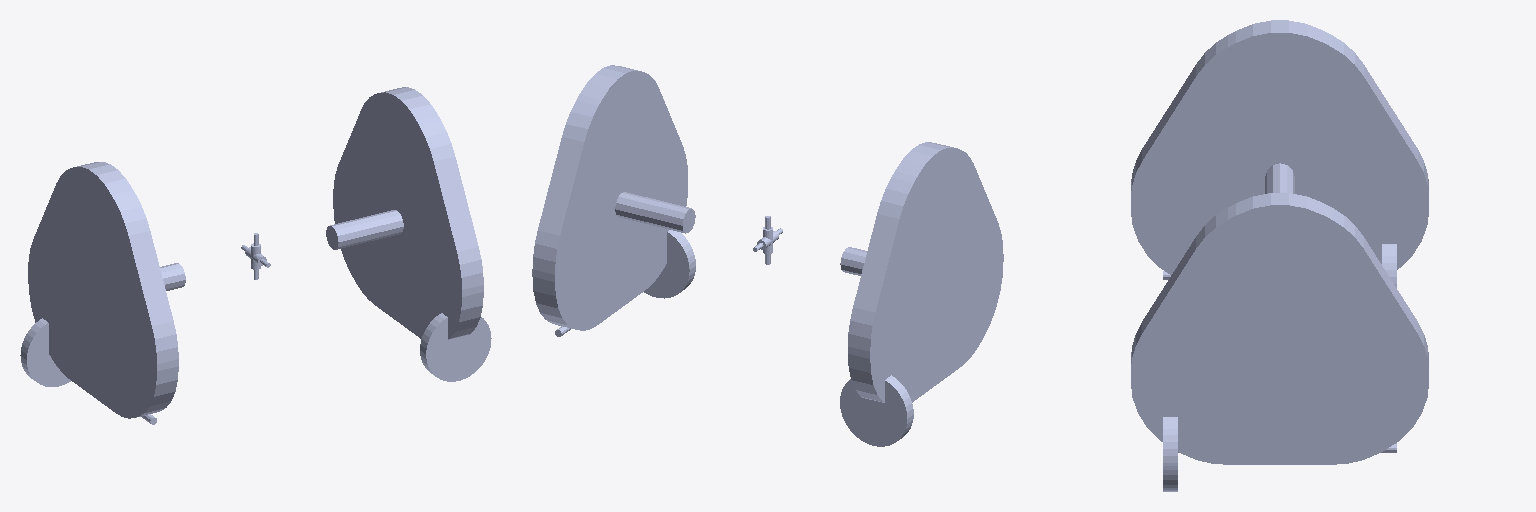
robot.urdf — 3D_ver2:
<?xml version="1.0" encoding="utf-8"?>
<!-- This URDF was automatically created by SolidWorks to URDF Exporter! Originally created by [author] ([email redacted]) 
     Commit Version: 1.6.0-1-g15f4949  Build Version: 1.6.7594.29634
     For more information, please see http://wiki.ros.org/sw_urdf_exporter -->
<robot
  name="3D_ver2">
  <link
    name="base">
    <inertial>
      <origin
        xyz="0.077437 -0.014827 0.010718"
        rpy="0 0 0" />
      <mass
        value="0.0794" />
      <inertia
        ixx="9.6765E-05"
        ixy="-6.2069E-12"
        ixz="2.4642E-09"
        iyy="5.0128E-05"
        iyz="-6.4522E-11"
        izz="5.0102E-05" />
    </inertial>
    <visual>
      <origin
        xyz="0 0 0"
        rpy="0 0 0" />
      <geometry>
        <mesh
          filename="package://3D_ver2/meshes/base.STL" />
      </geometry>
      <material
        name="">
        <color
          rgba="0.79216 0.81961 0.93333 1" />
      </material>
    </visual>
    <collision>
      <origin
        xyz="0 0 0"
        rpy="0 0 0" />
      <geometry>
        <mesh
          filename="package://3D_ver2/meshes/base.STL" />
      </geometry>
    </collision>
  </link>
  <link
    name="wheel_backright">
    <inertial>
      <origin
        xyz="0 1.3299E-06 -0.0025"
        rpy="0 0 0" />
      <mass
        value="0.0035028" />
      <inertia
        ixx="2.0609E-07"
        ixy="9.9262E-24"
        ixz="-8.9791E-23"
        iyy="2.0608E-07"
        iyz="-5.0635E-24"
        izz="3.9757E-07" />
    </inertial>
    <visual>
      <origin
        xyz="0 0 0"
        rpy="0 0 0" />
      <geometry>
        <mesh
          filename="package://3D_ver2/meshes/wheel_backright.STL" />
      </geometry>
      <material
        name="">
        <color
          rgba="0.79216 0.81961 0.93333 1" />
      </material>
    </visual>
    <collision>
      <origin
        xyz="0 0 0"
        rpy="0 0 0" />
      <geometry>
        <mesh
          filename="package://3D_ver2/meshes/wheel_backright.STL" />
      </geometry>
    </collision>
  </link>
  <joint
    name="wheel1"
    type="continuous">
    <origin
      xyz="0.078031 0.020173 -0.029026"
      rpy="1.5708 0.20072 0" />
    <parent
      link="base" />
    <child
      link="wheel_backright" />
    <axis
      xyz="0 0 1" />
  </joint>
  <link
    name="wheel_backleft">
    <inertial>
      <origin
        xyz="1.3878E-17 1.3299E-06 0.0025"
        rpy="0 0 0" />
      <mass
        value="0.0035028" />
      <inertia
        ixx="2.0609E-07"
        ixy="-3.0159E-26"
        ixz="2.2058E-24"
        iyy="2.0608E-07"
        iyz="2.5955E-27"
        izz="3.9757E-07" />
    </inertial>
    <visual>
      <origin
        xyz="0 0 0"
        rpy="0 0 0" />
      <geometry>
        <mesh
          filename="package://3D_ver2/meshes/wheel_backleft.STL" />
      </geometry>
      <material
        name="">
        <color
          rgba="0.79216 0.81961 0.93333 1" />
      </material>
    </visual>
    <collision>
      <origin
        xyz="0 0 0"
        rpy="0 0 0" />
      <geometry>
        <mesh
          filename="package://3D_ver2/meshes/wheel_backleft.STL" />
      </geometry>
    </collision>
  </link>
  <joint
    name="wheel2"
    type="continuous">
    <origin
      xyz="0.078031 -0.049827 -0.029026"
      rpy="1.5708 0 0" />
    <parent
      link="base" />
    <child
      link="wheel_backleft" />
    <axis
      xyz="0 0 1" />
  </joint>
  <link
    name="slide_back">
    <inertial>
      <origin
        xyz="0 -0.05113 1.7347E-18"
        rpy="0 0 0" />
      <mass
        value="0.0027934" />
      <inertia
        ixx="3.4942E-07"
        ixy="-1.4017E-24"
        ixz="-1.0838E-24"
        iyy="3.9932E-08"
        iyz="-9.7887E-25"
        izz="3.4715E-07" />
    </inertial>
    <visual>
      <origin
        xyz="0 0 0"
        rpy="0 0 0" />
      <geometry>
        <mesh
          filename="package://3D_ver2/meshes/slide_back.STL" />
      </geometry>
      <material
        name="">
        <color
          rgba="0.79216 0.81961 0.93333 1" />
      </material>
    </visual>
    <collision>
      <origin
        xyz="0 0 0"
        rpy="0 0 0" />
      <geometry>
        <mesh
          filename="package://3D_ver2/meshes/slide_back.STL" />
      </geometry>
    </collision>
  </link>
  <joint
    name="slide1"
    type="prismatic">
    <origin
      xyz="0.076031 -0.014827 0.01077"
      rpy="3.1416 0 1.5708" />
    <parent
      link="base" />
    <child
      link="slide_back" />
    <axis
      xyz="0 -1 0" />
    <limit
      lower="-0.05"
      upper="0.05"
      effort="0"
      velocity="0" />
  </joint>
  <link
    name="universal_pin">
    <inertial>
      <origin
        xyz="1.7347E-18 1.9284E-09 1.9284E-09"
        rpy="0 0 0" />
      <mass
        value="0.00027149" />
      <inertia
        ixx="5.9356E-09"
        ixy="4.4722E-15"
        ixz="-4.4722E-15"
        iyy="3.2007E-09"
        iyz="1.0097E-21"
        izz="3.2007E-09" />
    </inertial>
    <visual>
      <origin
        xyz="0 0 0"
        rpy="0 0 0" />
      <geometry>
        <mesh
          filename="package://3D_ver2/meshes/universal_pin.STL" />
      </geometry>
      <material
        name="">
        <color
          rgba="0.79216 0.81961 0.93333 1" />
      </material>
    </visual>
    <collision>
      <origin
        xyz="0 0 0"
        rpy="0 0 0" />
      <geometry>
        <mesh
          filename="package://3D_ver2/meshes/universal_pin.STL" />
      </geometry>
    </collision>
  </link>
  <joint
    name="yaw"
    type="revolute">
    <origin
      xyz="0 -0.068 0"
      rpy="-1.5708 0 1.5708" />
    <parent
      link="slide_back" />
    <child
      link="universal_pin" />
    <axis
      xyz="0 -1 0" />
    <limit
      lower="-1.5708"
      upper="1.5708"
      effort="0"
      velocity="0" />
  </joint>
  <link
    name="slide_front">
    <inertial>
      <origin
        xyz="-1.7347E-18 -0.05113 0"
        rpy="0 0 0" />
      <mass
        value="0.0027934" />
      <inertia
        ixx="3.4715E-07"
        ixy="7.8813E-24"
        ixz="-3.3029E-25"
        iyy="3.9932E-08"
        iyz="-1.185E-23"
        izz="3.4942E-07" />
    </inertial>
    <visual>
      <origin
        xyz="0 0 0"
        rpy="0 0 0" />
      <geometry>
        <mesh
          filename="package://3D_ver2/meshes/slide_front.STL" />
      </geometry>
      <material
        name="">
        <color
          rgba="0.79216 0.81961 0.93333 1" />
      </material>
    </visual>
    <collision>
      <origin
        xyz="0 0 0"
        rpy="0 0 0" />
      <geometry>
        <mesh
          filename="package://3D_ver2/meshes/slide_front.STL" />
      </geometry>
    </collision>
  </link>
  <joint
    name="pitch"
    type="revolute">
    <origin
      xyz="-0.068 0 0"
      rpy="1.5708 -1.5708 0" />
    <parent
      link="universal_pin" />
    <child
      link="slide_front" />
    <axis
      xyz="-1 0 0" />
    <limit
      lower="-1.5708"
      upper="1.5708"
      effort="0"
      velocity="0" />
  </joint>
  <link
    name="head">
    <inertial>
      <origin
        xyz="-2.3602E-08 -0.0014065 -5.2502E-05"
        rpy="0 0 0" />
      <mass
        value="0.0794" />
      <inertia
        ixx="5.0128E-05"
        ixy="5.0032E-12"
        ixz="-6.4522E-11"
        iyy="9.6765E-05"
        iyz="-2.4642E-09"
        izz="5.0102E-05" />
    </inertial>
    <visual>
      <origin
        xyz="0 0 0"
        rpy="0 0 0" />
      <geometry>
        <mesh
          filename="package://3D_ver2/meshes/head.STL" />
      </geometry>
      <material
        name="">
        <color
          rgba="0.79216 0.81961 0.93333 1" />
      </material>
    </visual>
    <collision>
      <origin
        xyz="0 0 0"
        rpy="0 0 0" />
      <geometry>
        <mesh
          filename="package://3D_ver2/meshes/head.STL" />
      </geometry>
    </collision>
  </link>
  <joint
    name="slide2"
    type="prismatic">
    <origin
      xyz="0 0 0"
      rpy="3.1416 0 0" />
    <parent
      link="slide_front" />
    <child
      link="head" />
    <axis
      xyz="0 0 0" />
    <limit
      lower="-0.05"
      upper="0.05"
      effort="0"
      velocity="0" />
  </joint>
  <link
    name="wheel_frontright">
    <inertial>
      <origin
        xyz="0 1.3299E-06 -0.0025"
        rpy="0 0 0" />
      <mass
        value="0.0035028" />
      <inertia
        ixx="2.0609E-07"
        ixy="-4.1854E-25"
        ixz="-3.4801E-26"
        iyy="2.0608E-07"
        iyz="3.5877E-27"
        izz="3.9757E-07" />
    </inertial>
    <visual>
      <origin
        xyz="0 0 0"
        rpy="0 0 0" />
      <geometry>
        <mesh
          filename="package://3D_ver2/meshes/wheel_frontright.STL" />
      </geometry>
      <material
        name="">
        <color
          rgba="0.79216 0.81961 0.93333 1" />
      </material>
    </visual>
    <collision>
      <origin
        xyz="0 0 0"
        rpy="0 0 0" />
      <geometry>
        <mesh
          filename="package://3D_ver2/meshes/wheel_frontright.STL" />
      </geometry>
    </collision>
  </link>
  <joint
    name="wheel3"
    type="continuous">
    <origin
      xyz="-0.035 -0.002 -0.039796"
      rpy="1.5708 0 1.5708" />
    <parent
      link="head" />
    <child
      link="wheel_frontright" />
    <axis
      xyz="0 0 1" />
  </joint>
  <link
    name="wheel_frontleft">
    <inertial>
      <origin
        xyz="0 1.3299E-06 0.0025"
        rpy="0 0 0" />
      <mass
        value="0.0035028" />
      <inertia
        ixx="2.0609E-07"
        ixy="-4.1841E-25"
        ixz="2.1541E-24"
        iyy="2.0608E-07"
        iyz="7.9016E-27"
        izz="3.9757E-07" />
    </inertial>
    <visual>
      <origin
        xyz="0 0 0"
        rpy="0 0 0" />
      <geometry>
        <mesh
          filename="package://3D_ver2/meshes/wheel_frontleft.STL" />
      </geometry>
      <material
        name="">
        <color
          rgba="0.79216 0.81961 0.93333 1" />
      </material>
    </visual>
    <collision>
      <origin
        xyz="0 0 0"
        rpy="0 0 0" />
      <geometry>
        <mesh
          filename="package://3D_ver2/meshes/wheel_frontleft.STL" />
      </geometry>
    </collision>
  </link>
  <joint
    name="wheel4"
    type="continuous">
    <origin
      xyz="0.035 -0.002 -0.039796"
      rpy="1.5708 0 1.5708" />
    <parent
      link="head" />
    <child
      link="wheel_frontleft" />
    <axis
      xyz="0 0 1" />
  </joint>
</robot>

--- Facts derived from the render (not from the file) ---
The picture shows the robot from 3 angles, left to right: view 1: azimuth 30°, elevation 25°; view 2: azimuth 150°, elevation 25°; view 3: azimuth 270°, elevation 25°; orthographic projection.
Model 3D_ver2 with 9 links and 8 joints (2 revolute, 4 continuous, 2 prismatic), rooted at base, posed every joint at zero.
Visible links, largest first — view 1: head, base, wheel_backleft, wheel_frontright; view 2: base, head, wheel_frontright, wheel_backleft, universal_pin; view 3: base, head, wheel_backleft.
Boxes of the visible links, x1,y1,x2,y2 form: head: (28, 162, 185, 424); base: (326, 87, 483, 349); wheel_backleft: (420, 313, 491, 381); wheel_frontright: (20, 318, 70, 386); base: (532, 65, 695, 336); head: (840, 142, 1003, 413); wheel_frontright: (840, 375, 913, 446); wheel_backleft: (644, 230, 695, 298); universal_pin: (753, 216, 782, 264); base: (1131, 193, 1428, 464); head: (1131, 20, 1428, 279); wheel_backleft: (1163, 417, 1177, 491).
Bounding box of the posed robot: 0.17 × 0.1025 × 0.1092 m (x, y, z).
5 mesh visuals loaded from 9 distinct referenced files (5 binary STL); not drawn: 4 (reference not matched to a file when rendering).